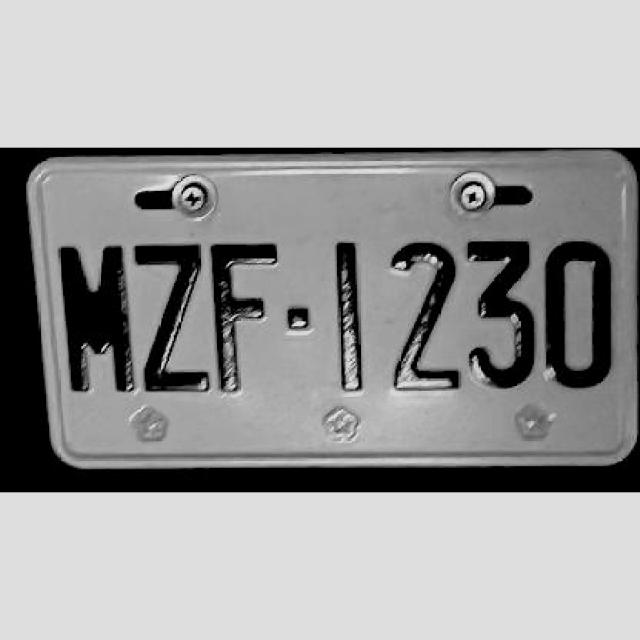-: (285, 303, 312, 332)
0: (537, 232, 614, 394)
1: (336, 234, 366, 395)
2: (385, 231, 463, 395)
3: (464, 234, 538, 392)
F: (209, 238, 283, 396)
M: (52, 240, 132, 395)
Z: (131, 234, 206, 395)
